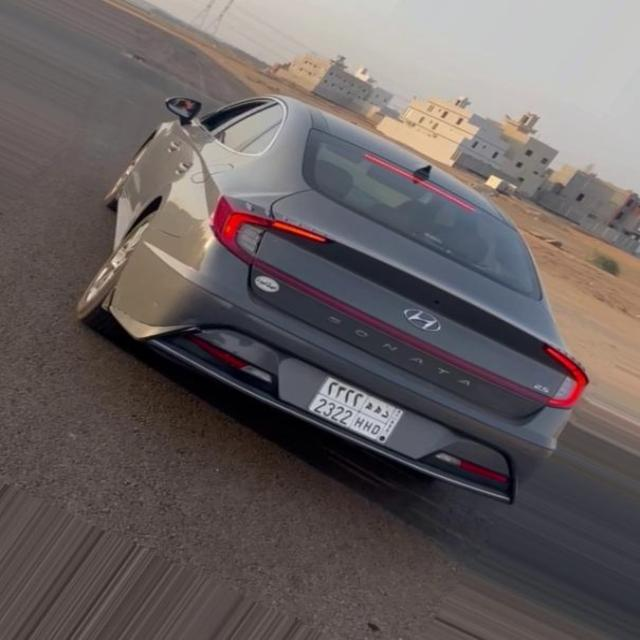Car-plate: (288, 357, 423, 453)
